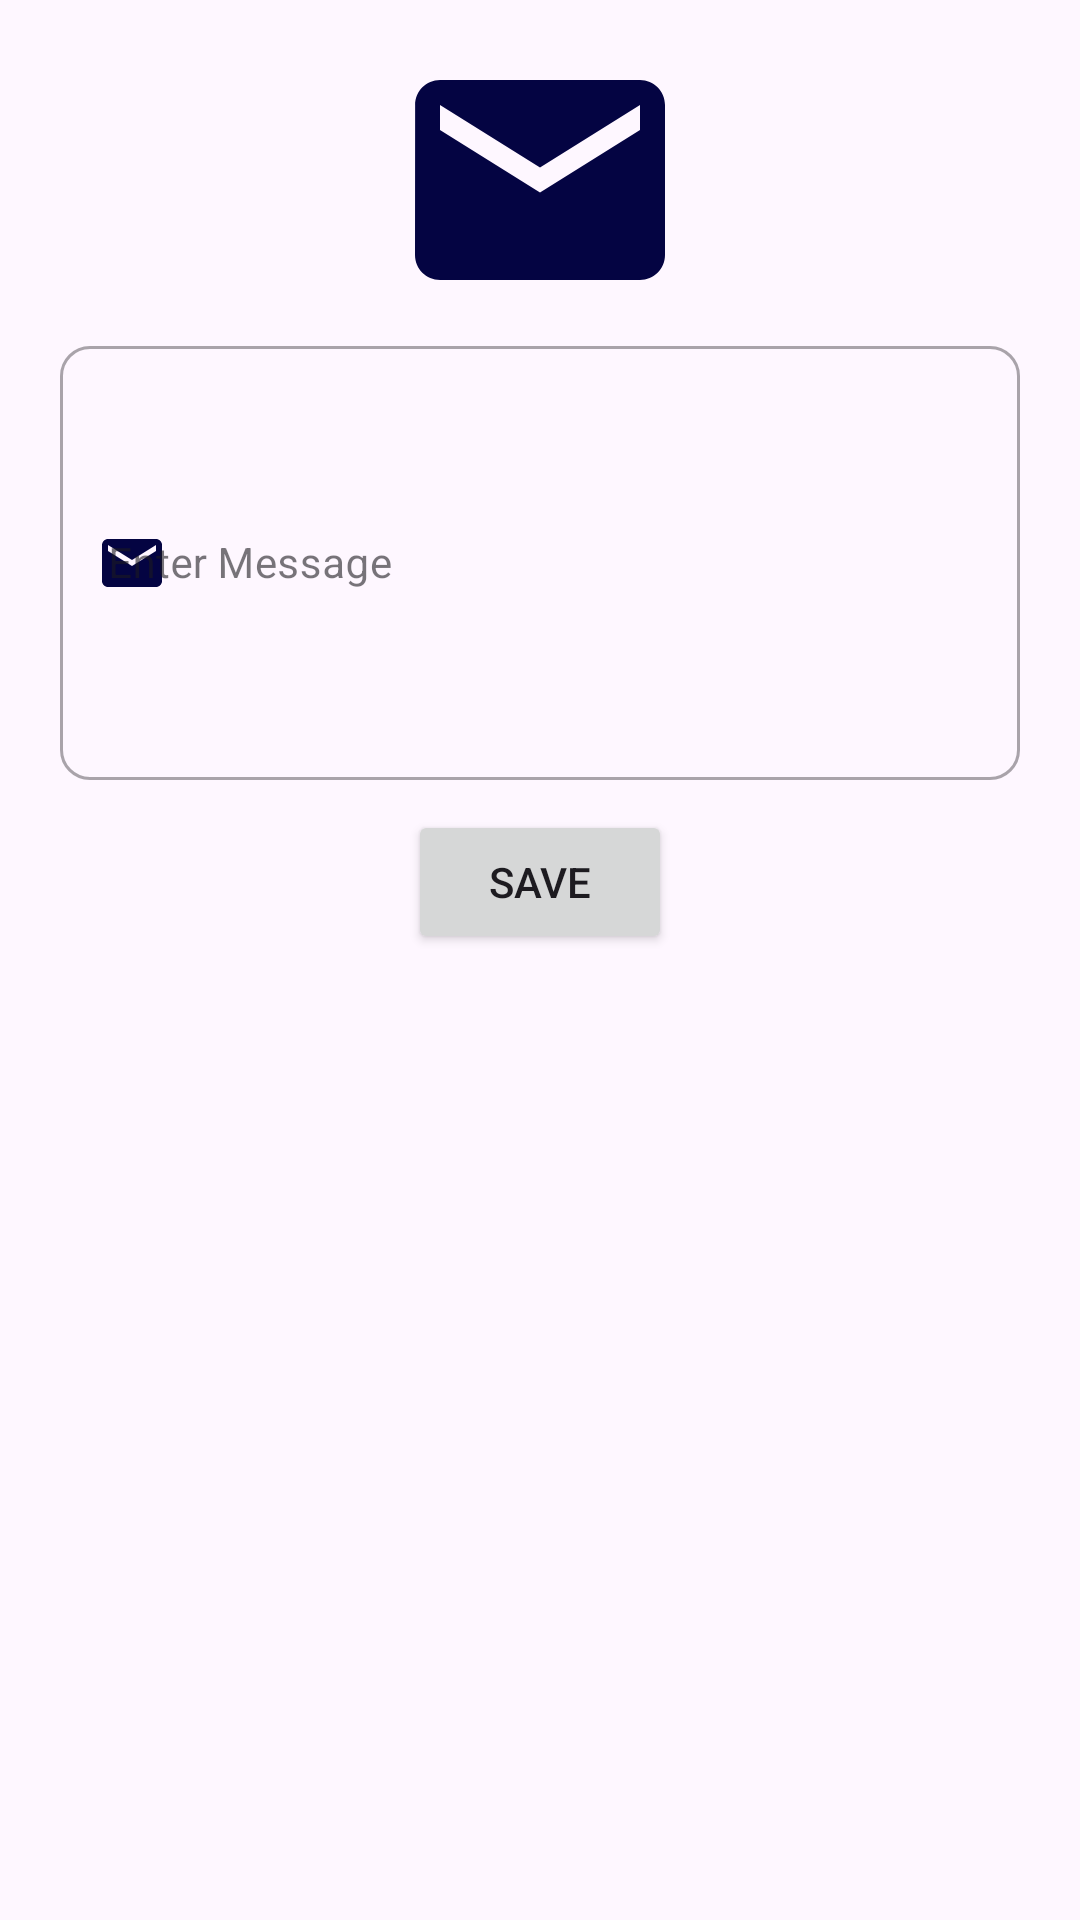

Where to tap for icons on this 1080w x 1920h app screen, as [x,y]:
email: [540,180]
